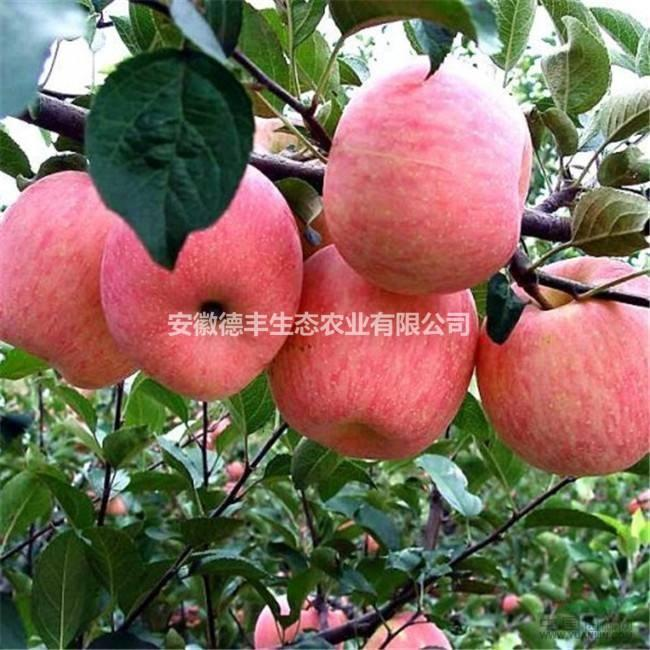apple: (325, 61, 536, 299), (96, 165, 302, 399), (270, 246, 479, 462), (470, 256, 650, 477), (1, 169, 142, 387), (499, 593, 519, 616)
